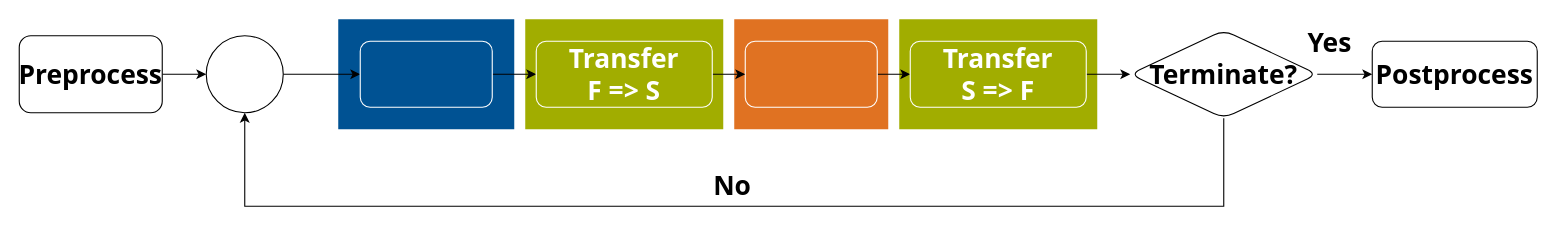
This 1557x234 diagram has some shape labels left out. The box of each missing label's shape, as (x1, y1, x2, y2) in pixels:
Any: (205, 35, 283, 113)
Solve F: (359, 40, 492, 107)
Solve S: (744, 40, 877, 107)
